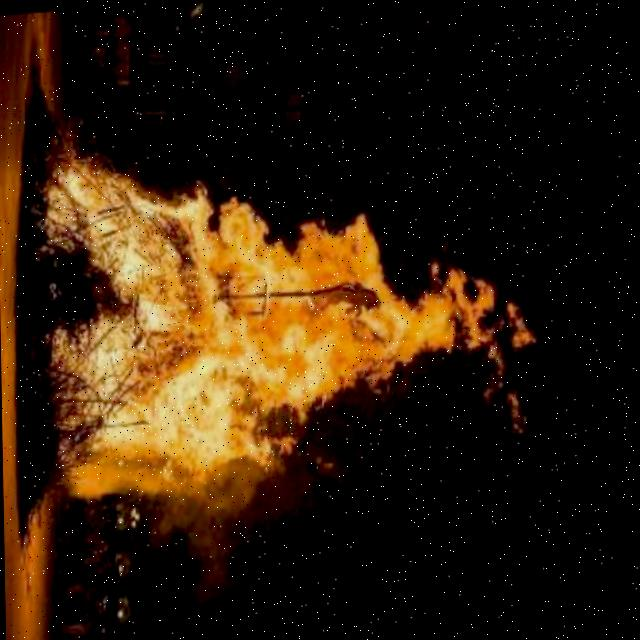fire: (30, 138, 547, 519)
